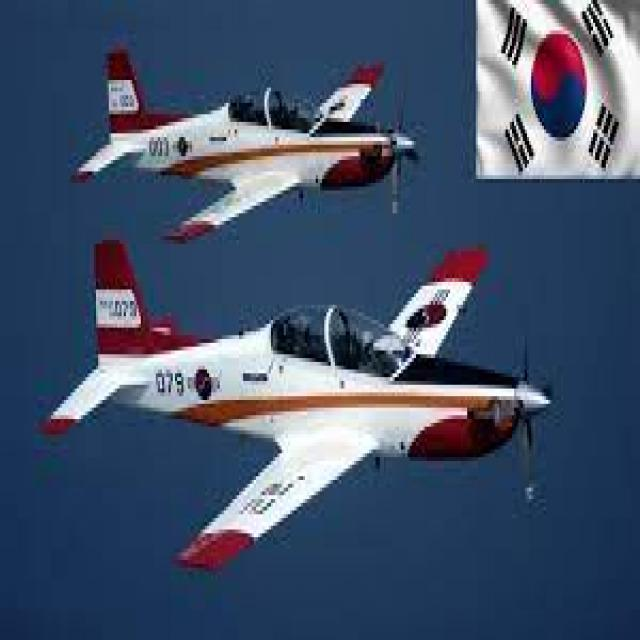KT-1: (38, 236, 555, 575), (66, 46, 416, 240)
